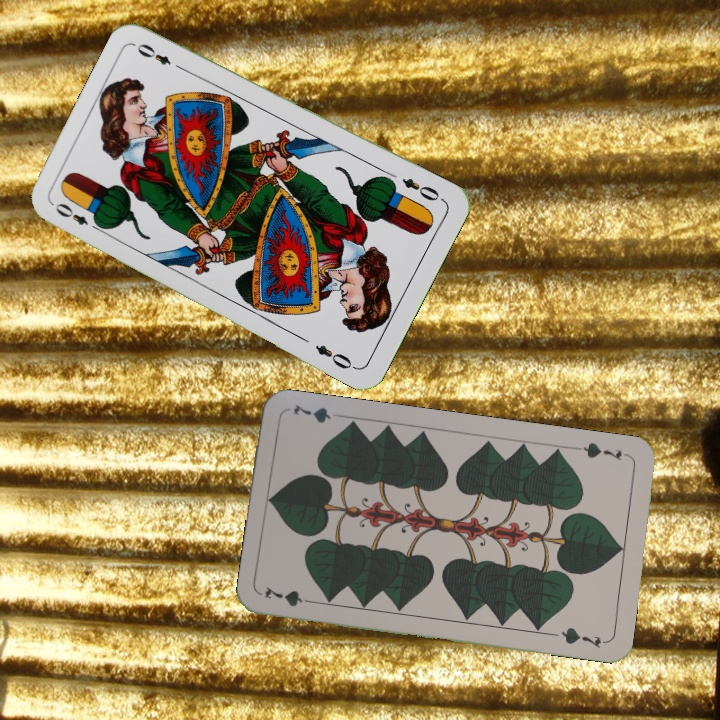EO: (51, 198, 105, 235), (398, 174, 447, 204)
G7: (260, 583, 319, 609), (573, 438, 632, 463)
